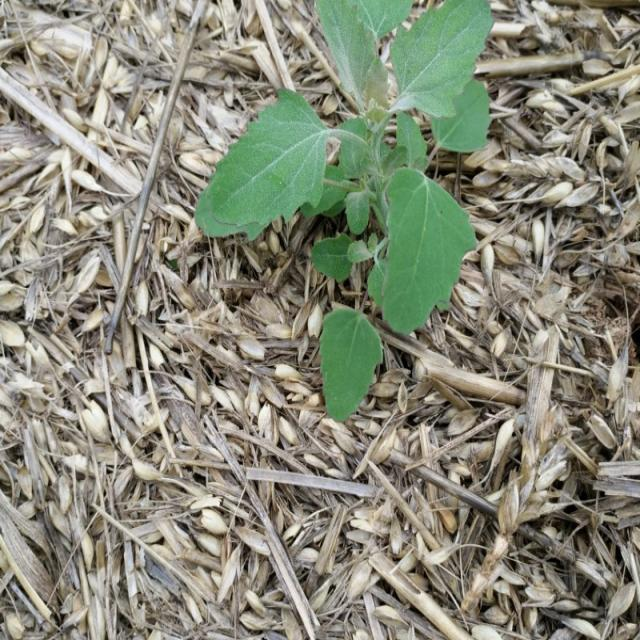goosefoots: (212, 0, 494, 382)
